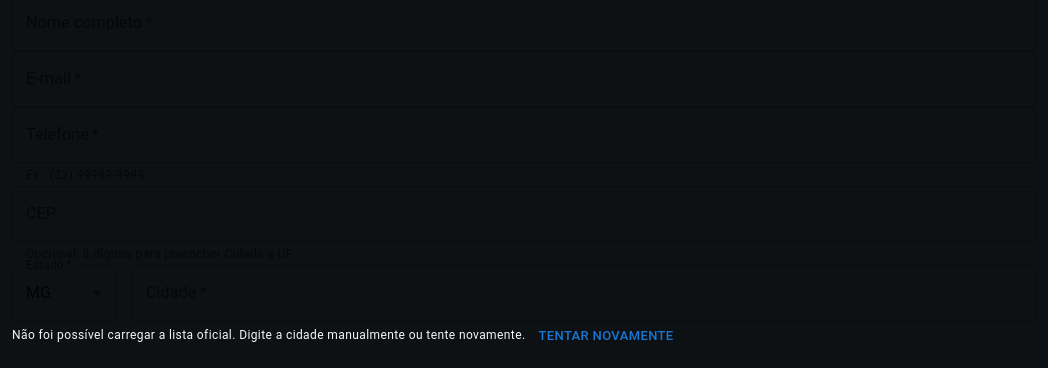
Test: PersonalDataStep › city when the official list fails › retries the lookup and goes back to the list when it recovers
Expected: the text "Não foi possível carregar a lista oficial. Digite a cidade manualmente ou tente novamente." is shown, [12, 328, 526, 342]
Click the button "Tentar novamente": click(606, 336) [534, 321, 679, 352]
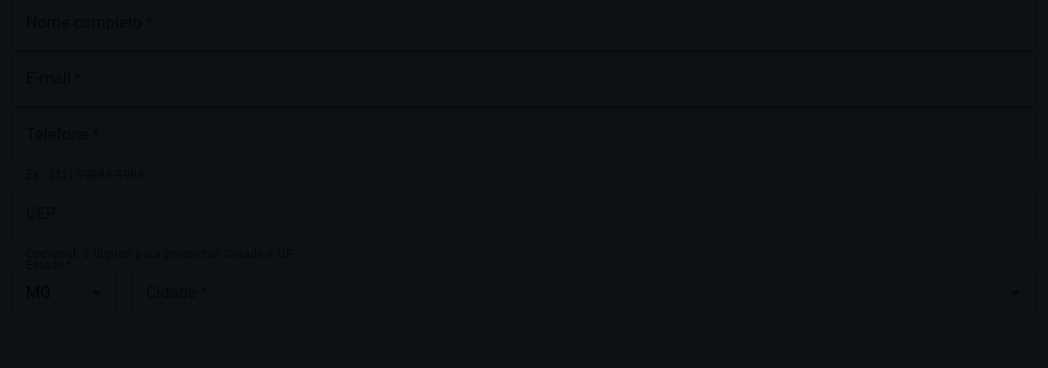
Expected: the text "Não foi possível carregar a lista oficial. Digite a cidade manualmente ou tente novamente." is gone
